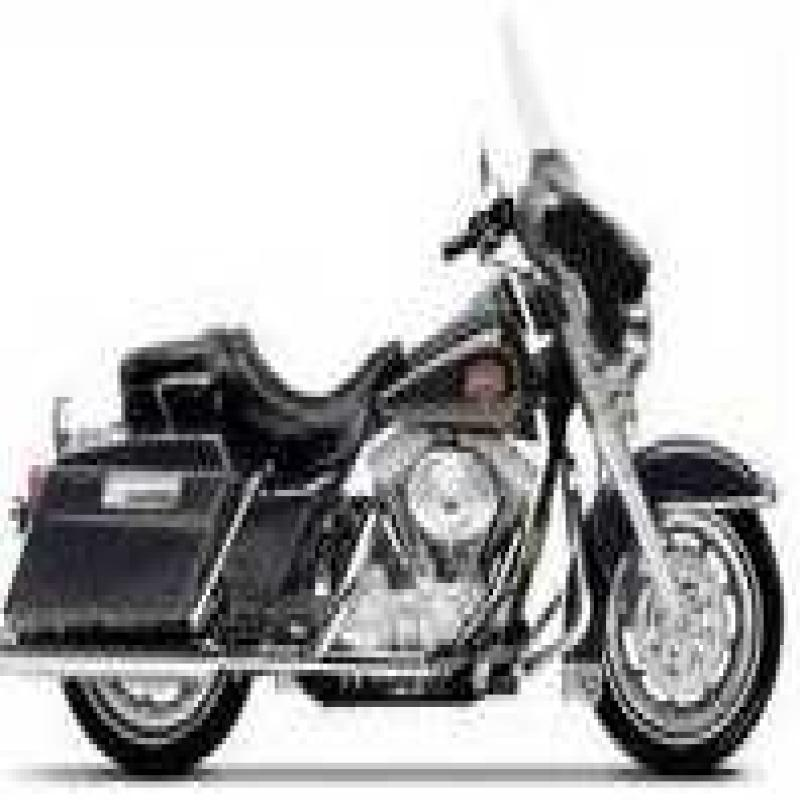bike: (69, 138, 800, 800)
